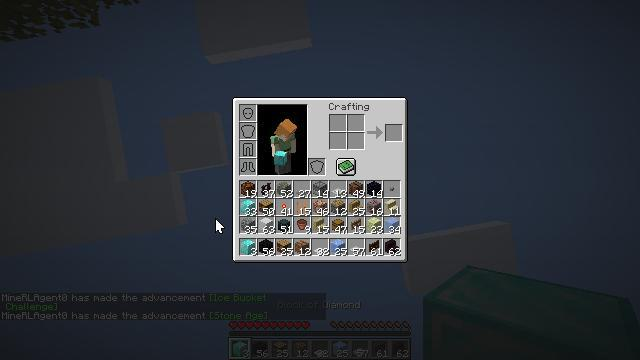cursor: (215, 218, 225, 234)
